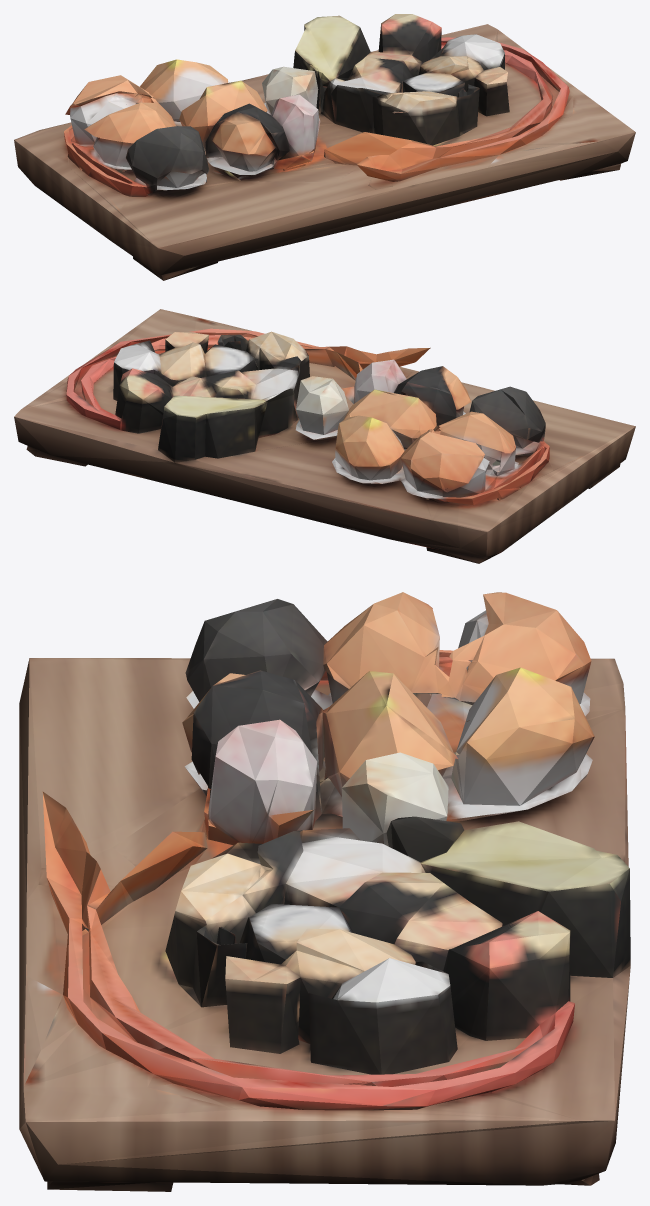
Rendered from sushi.glb.
3 views of the same model, one above another, from view 1: azimuth 30°, elevation 25°; view 2: azimuth 150°, elevation 25°; view 3: azimuth 270°, elevation 25° (orthographic). The views are drawn at different scales.
Parts seen in each view (by area): view 1: world; view 2: world; view 3: world.
Boxes of the visible parts, left/top/right/bottom form: world: left=14, top=14, right=635, bottom=280; world: left=14, top=309, right=635, bottom=563; world: left=19, top=592, right=630, bottom=1191.
Size of the model in its own units: 0.9975 by 0.2069 by 0.551.
1 material, 1 textured.
